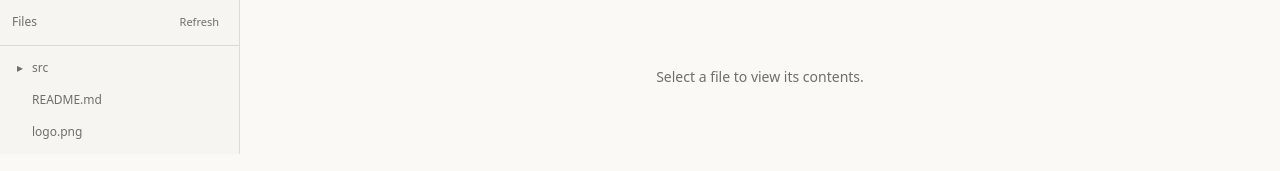
Scenario: FilesPanel › renders CodeMirror with line numbers for file content
Click the button "README.md" at (120, 100), box [6, 84, 233, 116]
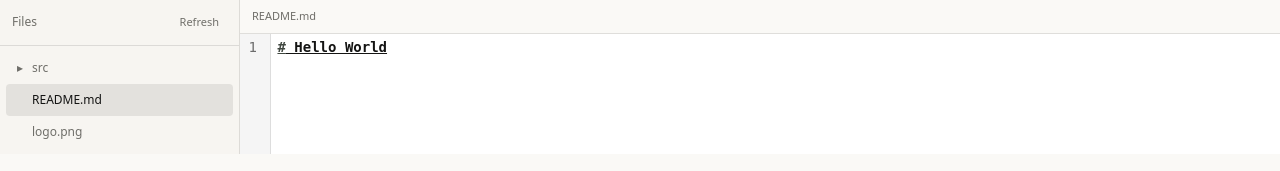
Check: the element with class "cm-lineNumbers" is shown, box [249, 38, 257, 54]
